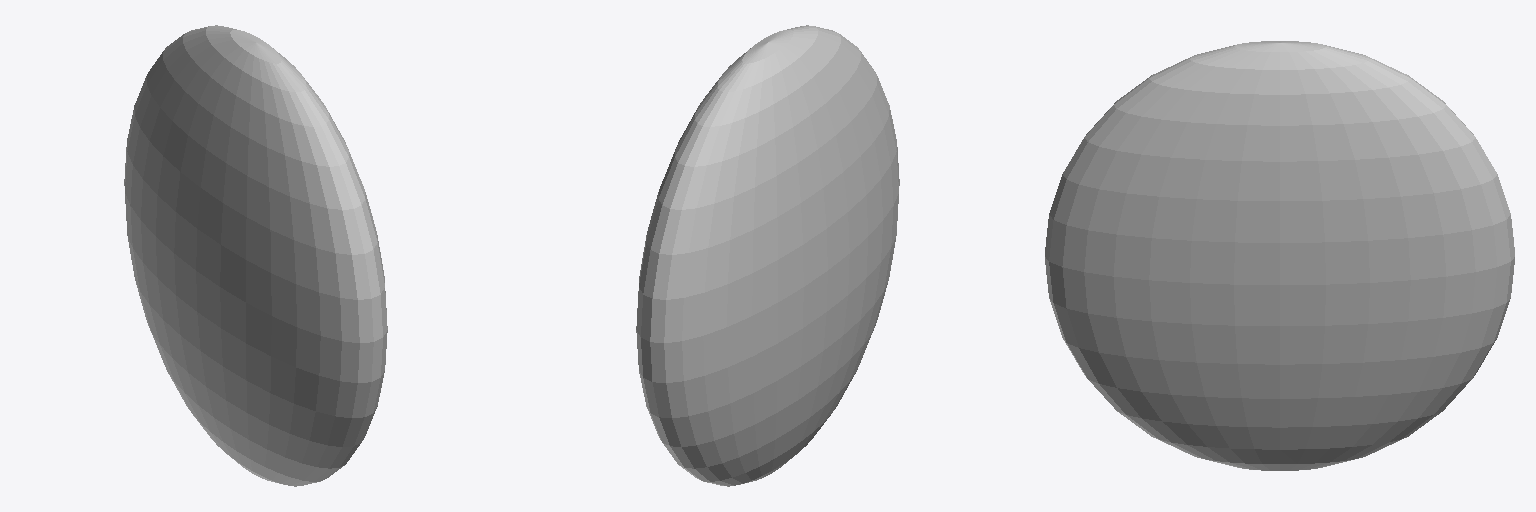
File: button2.obj
3 renders of one model, left to right at view 1: azimuth 30°, elevation 25°; view 2: azimuth 150°, elevation 25°; view 3: azimuth 270°, elevation 25°, orthographic.
Parts seen in each view (by area): view 1: Button2; view 2: Button2; view 3: Button2.
Part boxes in pixels (left/top/right/bottom): Button2: left=124, top=25, right=387, bottom=486; Button2: left=636, top=25, right=899, bottom=486; Button2: left=1045, top=41, right=1514, bottom=470.
Size of the model in its own units: 0.028 by 0.0953 by 0.0953.